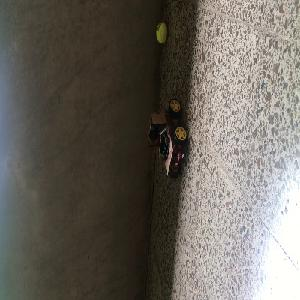Ball: (155, 22, 167, 44)
Robot: (146, 98, 189, 178)
